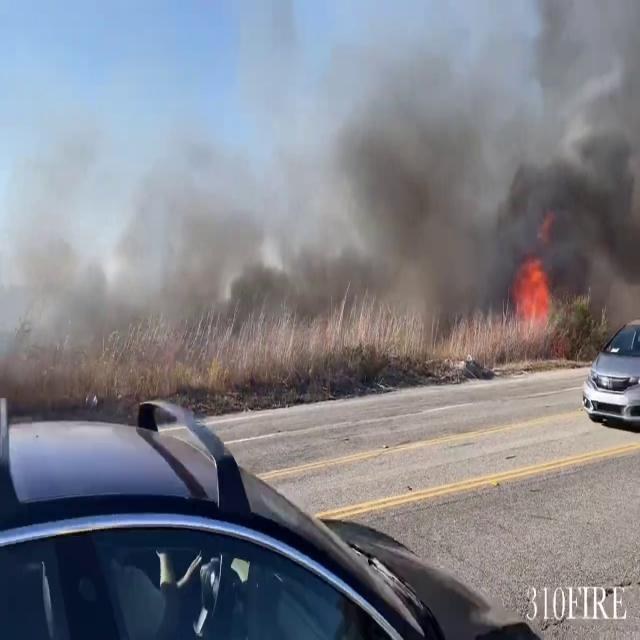Fire: (507, 250, 557, 336)
Smoke: (282, 1, 640, 334), (6, 112, 285, 360)
